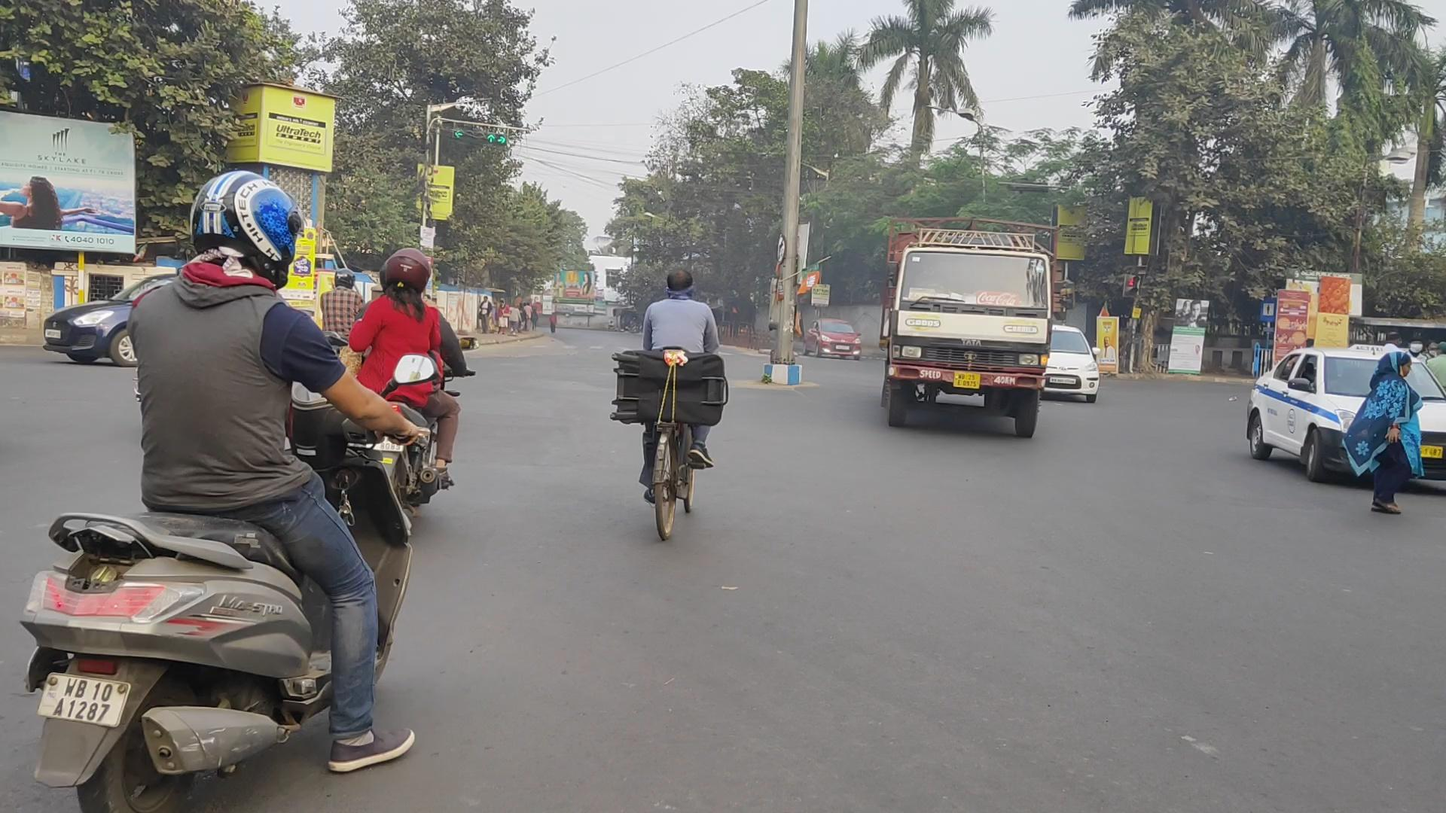bike: (17, 168, 432, 813), (331, 248, 479, 506), (613, 262, 732, 544)
car: (1247, 343, 1446, 489), (38, 273, 249, 369), (1039, 324, 1100, 404), (803, 317, 863, 363)
truck: (881, 215, 1057, 439)
